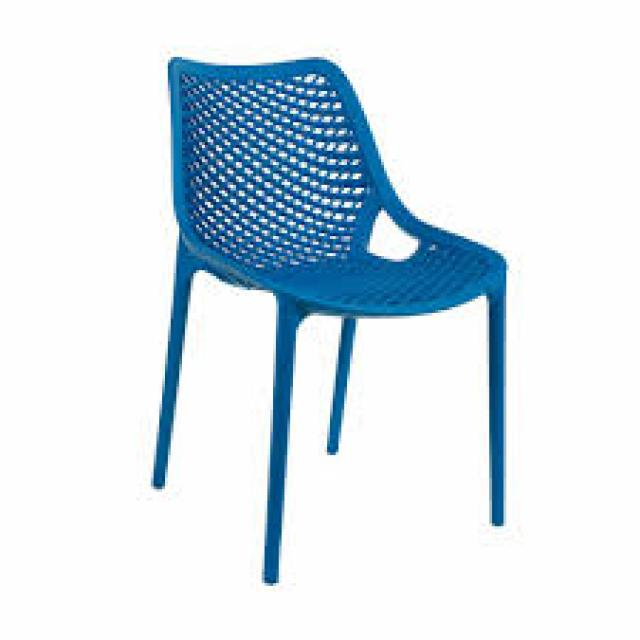chair: (106, 35, 564, 634)
